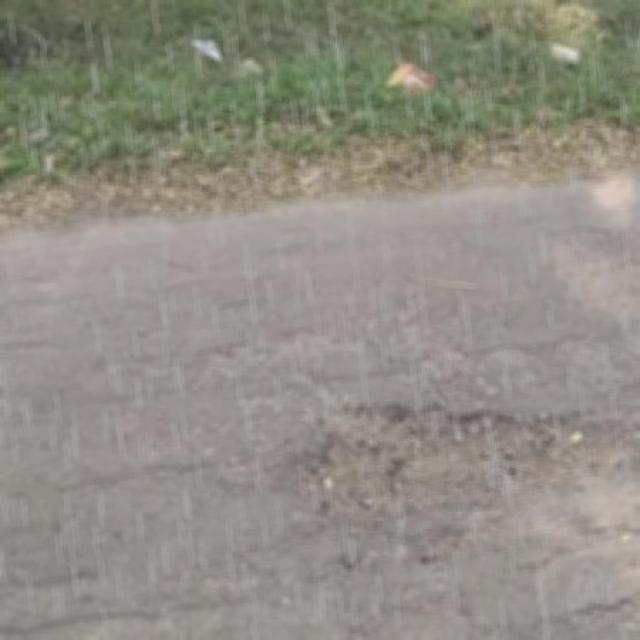road-pothole: (291, 397, 638, 592)
